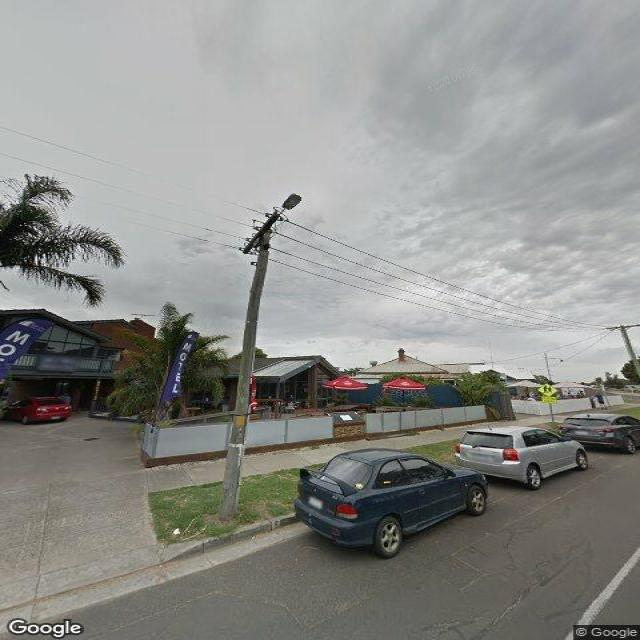crossarm: (241, 212, 281, 254), (601, 324, 640, 332)
mid mount suitable pole: (216, 191, 303, 521)
streetlight: (277, 193, 303, 215)
timber-pole: (217, 229, 272, 520), (619, 326, 640, 379)
